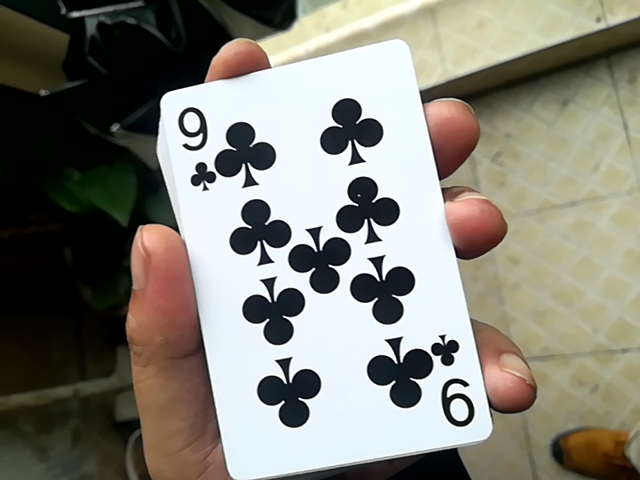mh 9: (137, 43, 491, 474)
